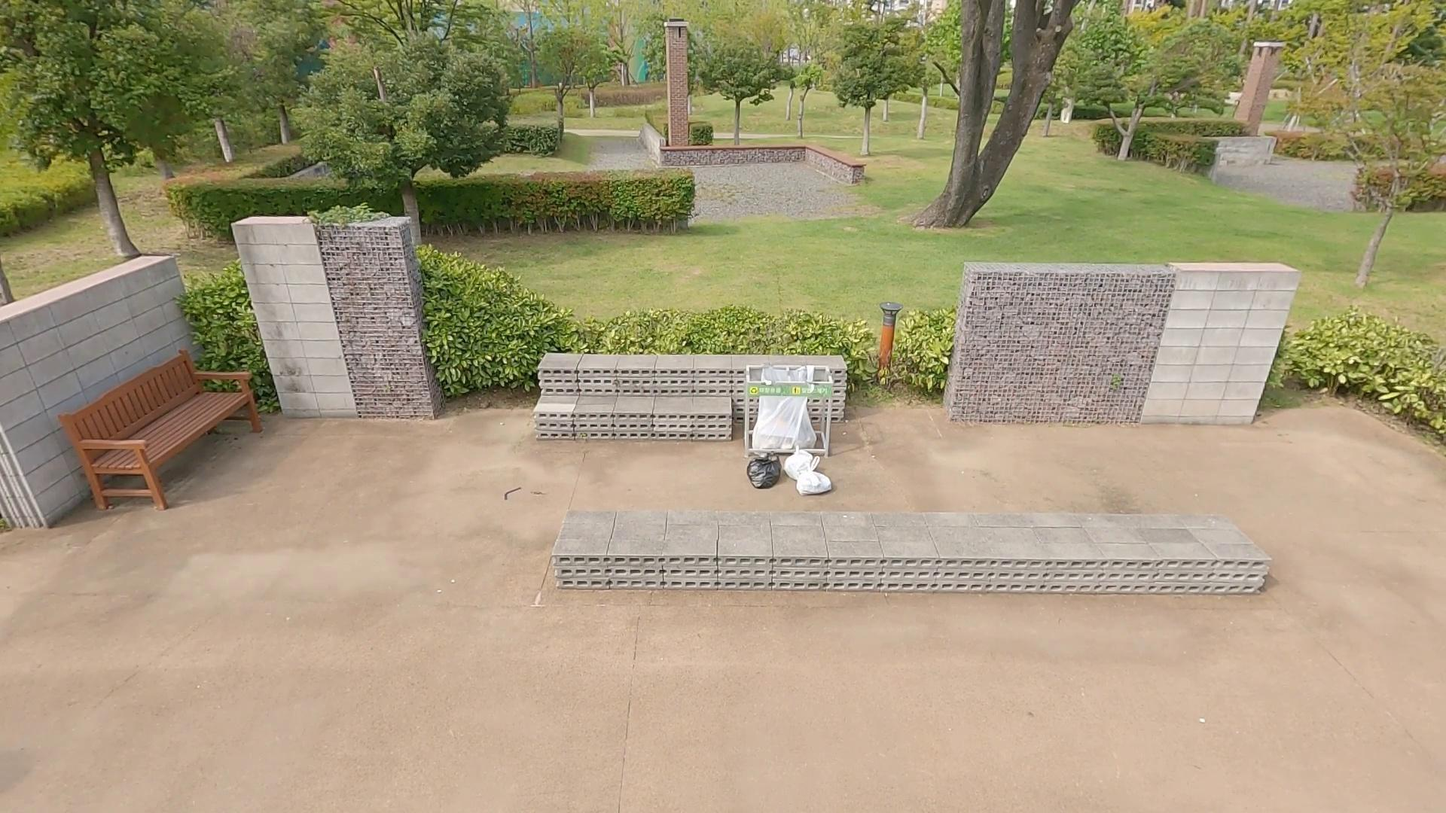trash: (746, 449, 785, 490), (795, 458, 834, 496), (786, 447, 814, 479)
